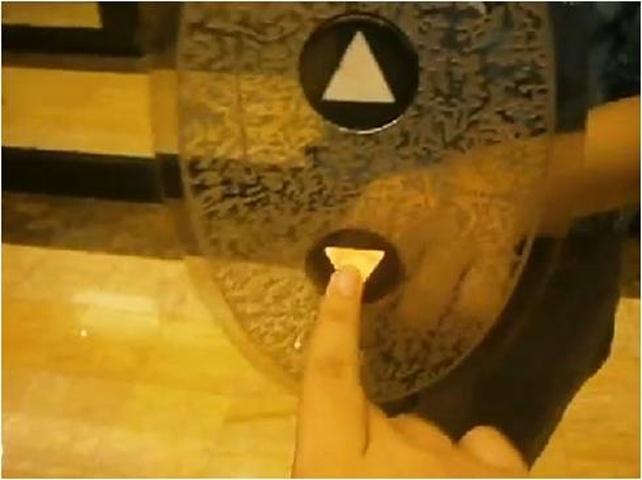down: (306, 228, 402, 305)
up: (299, 13, 420, 134)
